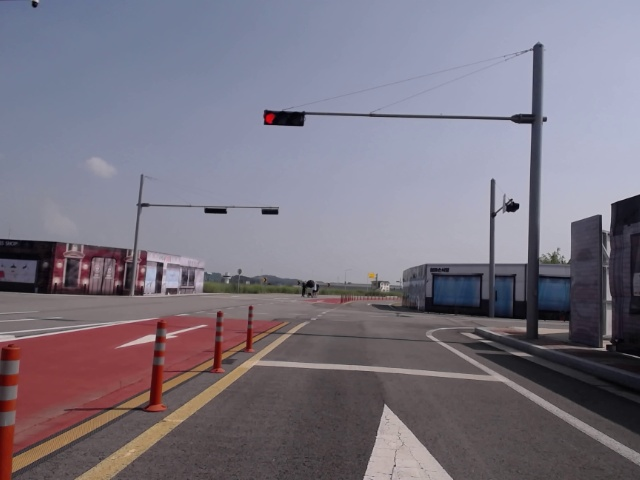red_3: (263, 111, 304, 126)
